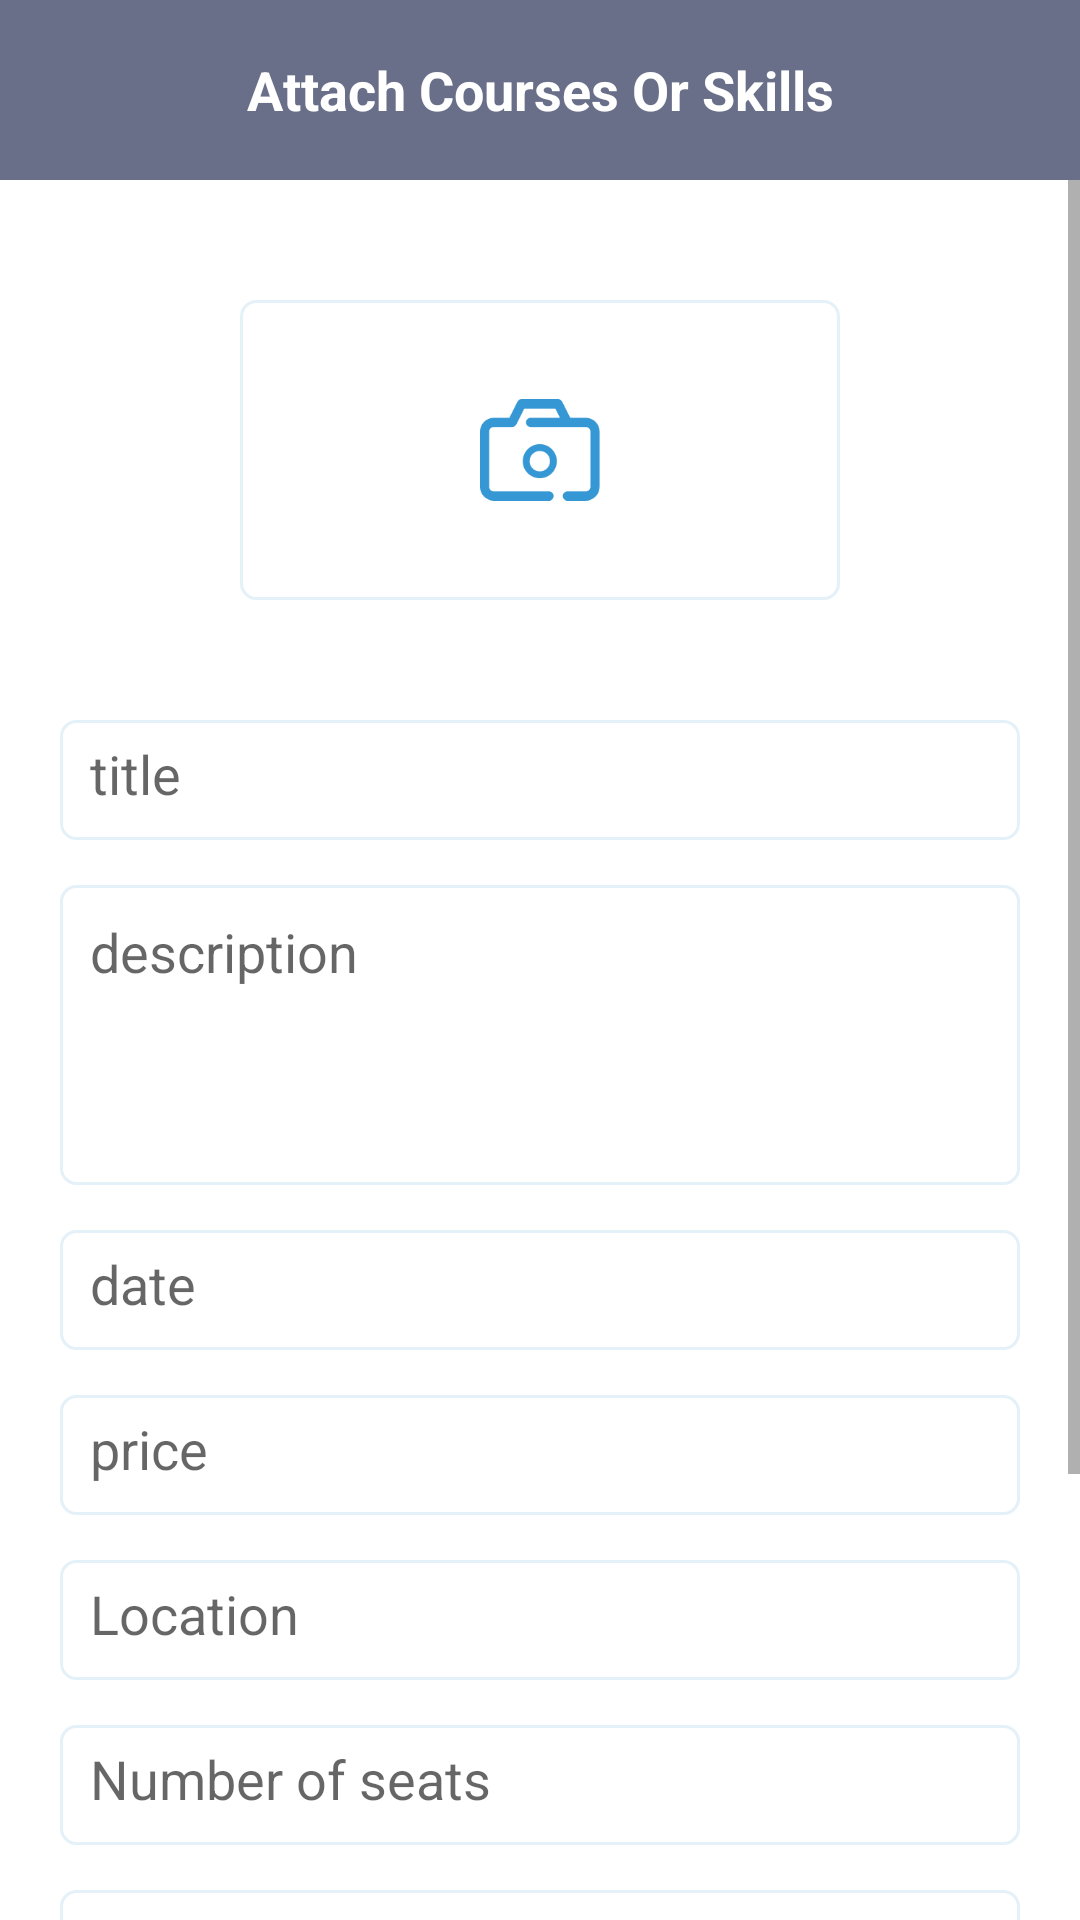

Icons on this 1080w x 1920h Android screen, each with the point to tap as (x=x, y=y):
camera add: (x=540, y=450)
